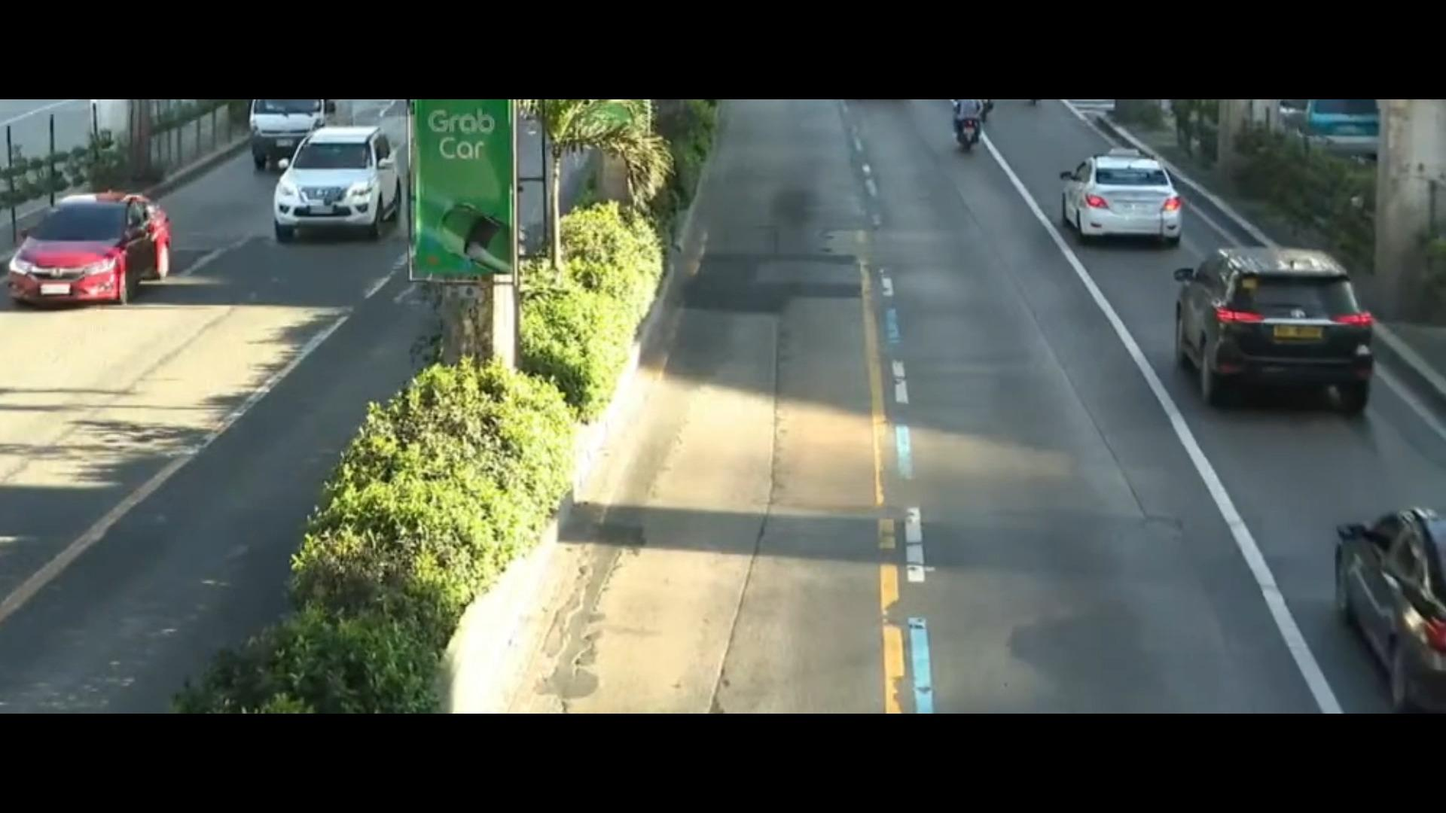Motorcycle: (930, 96, 1011, 164)
SUV: (1140, 245, 1405, 417), (259, 119, 411, 256)
Sedan: (1296, 488, 1446, 723), (0, 181, 179, 324), (1058, 130, 1187, 264)
Van: (238, 98, 341, 170)
